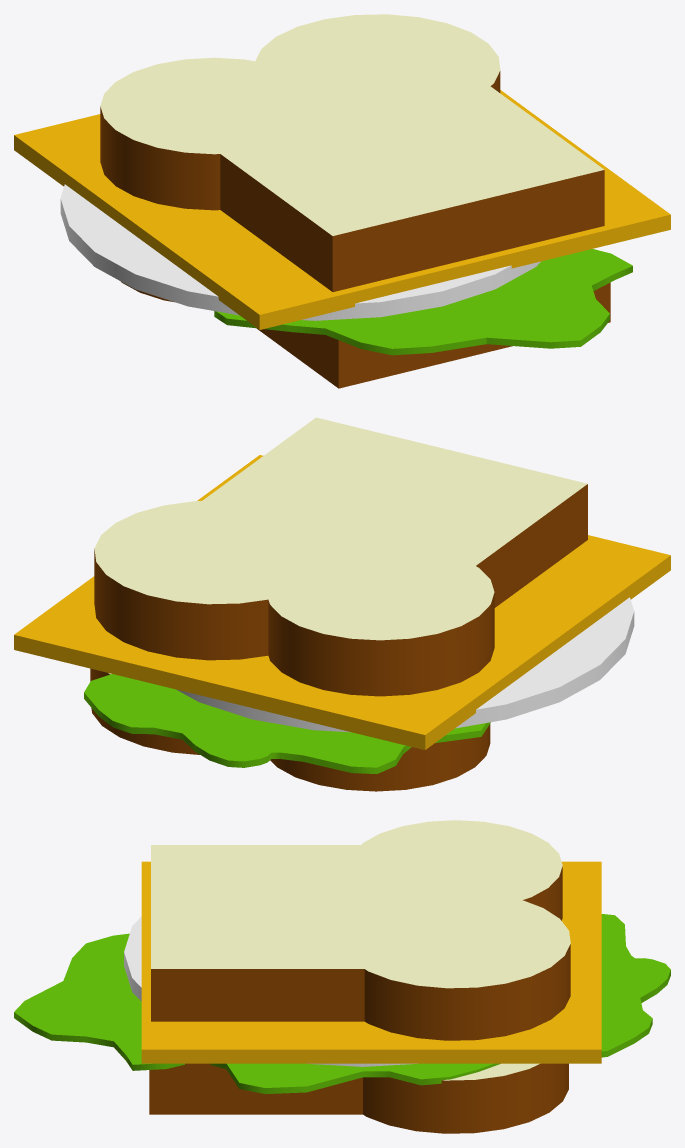
File: Bread Slice.fbx
3 renders of one model, top to bottom at view 1: azimuth 30°, elevation 25°; view 2: azimuth 150°, elevation 25°; view 3: azimuth 270°, elevation 25°, orthographic. The views are drawn at different scales.
Parts seen in each view (by area): view 1: Model; view 2: Model; view 3: Model.
Boxes of the visible parts, left/top/right/bottom form: Model: left=14, top=14, right=670, bottom=388; Model: left=14, top=417, right=670, bottom=791; Model: left=14, top=820, right=670, bottom=1133.
Bounding box in the file's own units: 1052 × 330 × 1371.
